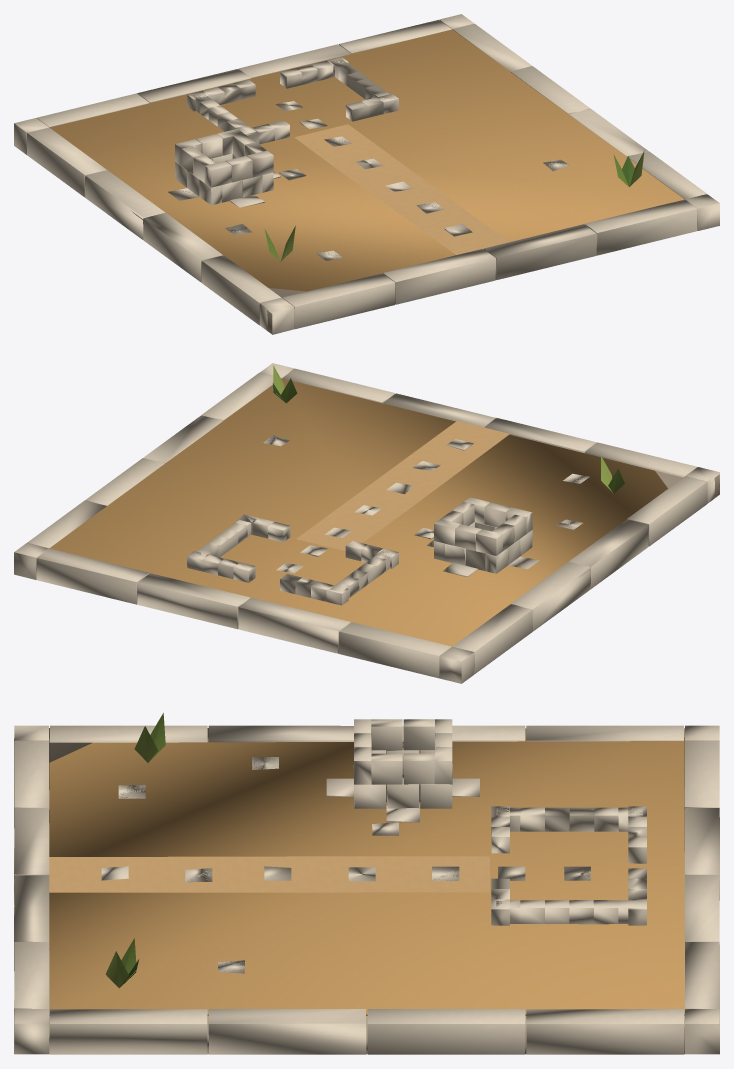
The model's file is city-1-lod2-d54721216af7.glb.
3 views of the same model, one above another, from view 1: azimuth 30°, elevation 25°; view 2: azimuth 150°, elevation 25°; view 3: azimuth 270°, elevation 25° (orthographic). The views are drawn at different scales.
Parts seen in each view (by area): view 1: SM_CT1_V4_Batch_1.002, SM_CT1_V4_Batch_6.002, SM_CT1_V4_Batch_2.002; view 2: SM_CT1_V4_Batch_1.002, SM_CT1_V4_Batch_6.002, SM_CT1_V4_Batch_2.002, SM_CT1_V4_Batch_0.002; view 3: SM_CT1_V4_Batch_1.002, SM_CT1_V4_Batch_6.002, SM_CT1_V4_Batch_2.002, SM_CT1_V4_Batch_0.002, SM_CT1_V4_Batch_8.002, SM_CT1_V4_Batch_7.002.
Part boxes in pixels (x1=…): SM_CT1_V4_Batch_1.002: x1=50, y1=29, x2=685, y2=291; SM_CT1_V4_Batch_6.002: x1=14, y1=14, x2=719, y2=334; SM_CT1_V4_Batch_2.002: x1=294, y1=124, x2=509, y2=254; SM_CT1_V4_Batch_1.002: x1=49, y1=378, x2=667, y2=646; SM_CT1_V4_Batch_6.002: x1=14, y1=363, x2=719, y2=683; SM_CT1_V4_Batch_2.002: x1=296, y1=421, x2=509, y2=550; SM_CT1_V4_Batch_0.002: x1=36, y1=453, x2=719, y2=677; SM_CT1_V4_Batch_1.002: x1=49, y1=737, x2=684, y2=1015; SM_CT1_V4_Batch_6.002: x1=14, y1=719, x2=719, y2=1054; SM_CT1_V4_Batch_2.002: x1=49, y1=856, x2=489, y2=892; SM_CT1_V4_Batch_0.002: x1=49, y1=728, x2=684, y2=1054; SM_CT1_V4_Batch_8.002: x1=105, y1=726, x2=157, y2=987; SM_CT1_V4_Batch_7.002: x1=121, y1=713, x2=165, y2=980.
Size of the model in its own units: 10 by 1.24 by 10.
8 materials, 3 textured.
